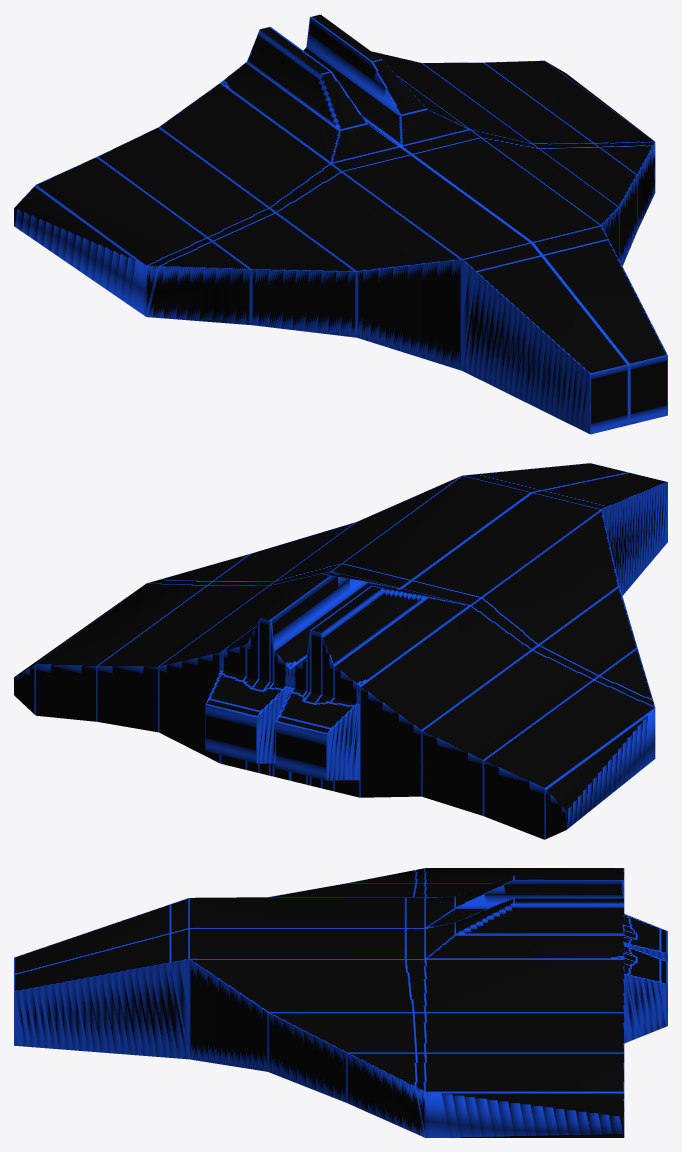
The model's file is hero_ship_01.fbx.
The picture shows the model from 3 angles, top to bottom: view 1: azimuth 30°, elevation 25°; view 2: azimuth 150°, elevation 25°; view 3: azimuth 270°, elevation 25°; orthographic projection. The views are drawn at different scales.
Visible parts, largest first — view 1: cube; view 2: cube; view 3: cube.
Boxes of the visible parts, bbox=[...] form: cube: bbox=[14, 14, 667, 434]; cube: bbox=[14, 463, 667, 839]; cube: bbox=[14, 868, 667, 1137].
Size of the model in its own units: 1064 by 285 by 1212.
